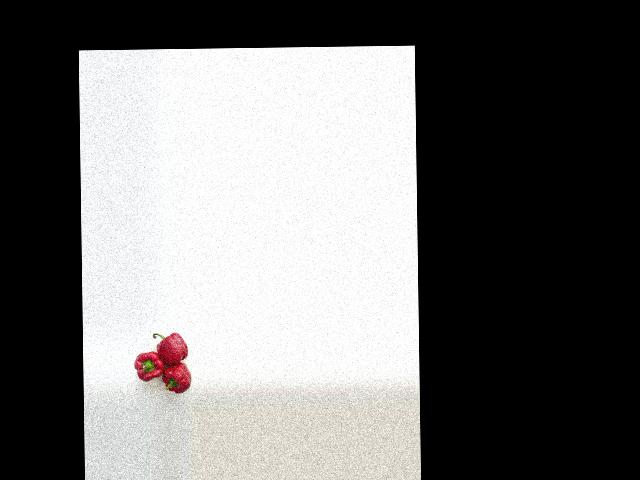bell_pepper: (151, 325, 189, 362)
